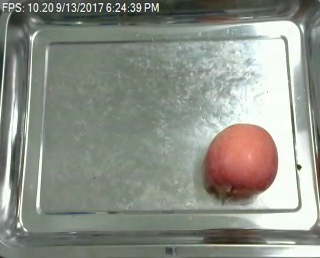Apple: (201, 121, 279, 201)
